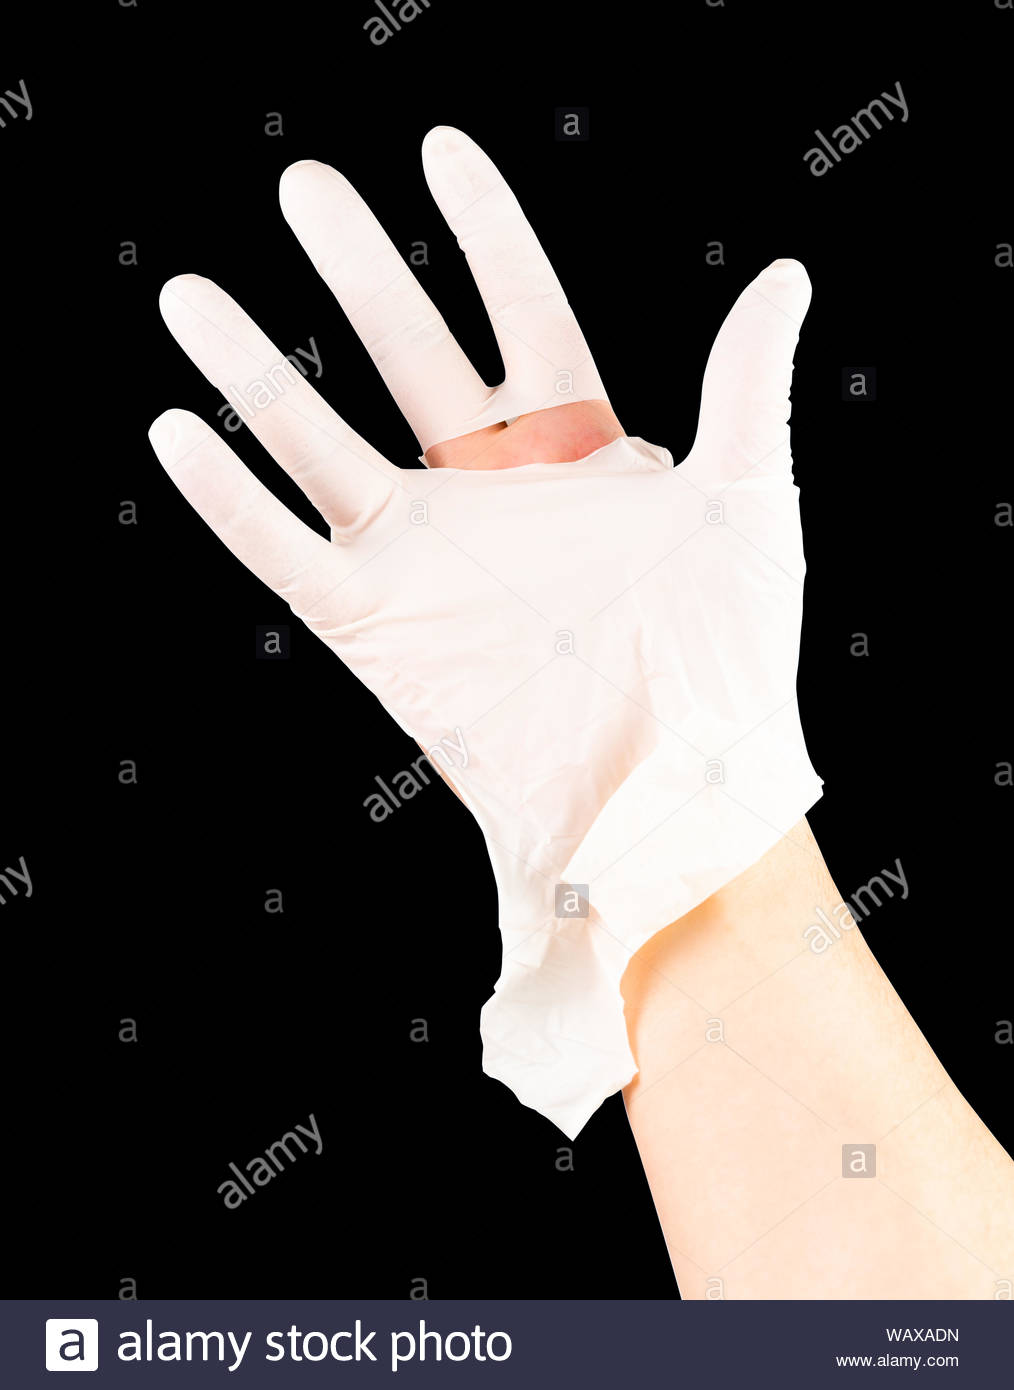defected: (139, 118, 901, 1011)
